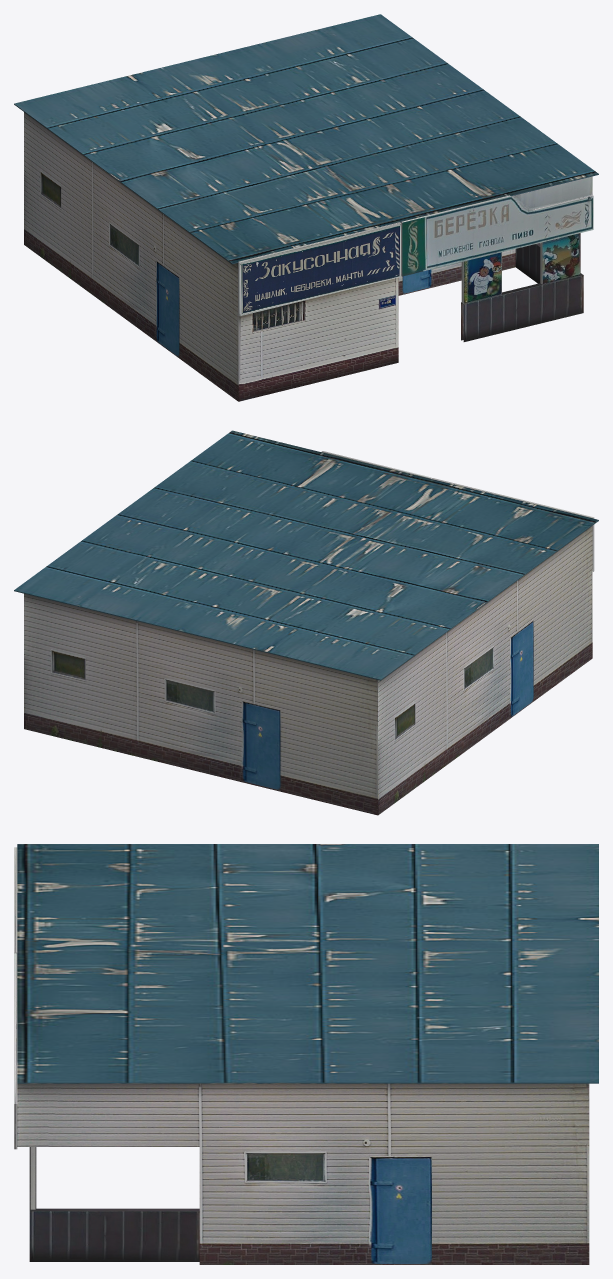
Rendered from r254_zakusochnaya_berezka.FBX.
3 renders of one model, top to bottom at view 1: azimuth 30°, elevation 25°; view 2: azimuth 150°, elevation 25°; view 3: azimuth 270°, elevation 25°, orthographic. The views are drawn at different scales.
Visible parts, largest first — view 1: r254_zakusochnaya_berezka; view 2: r254_zakusochnaya_berezka; view 3: r254_zakusochnaya_berezka.
Part boxes in pixels (bbox=[...]): r254_zakusochnaya_berezka: bbox=[14, 14, 598, 401]; r254_zakusochnaya_berezka: bbox=[14, 430, 598, 815]; r254_zakusochnaya_berezka: bbox=[14, 844, 598, 1264].
Bounding box in the file's own units: 8.52 × 8.84 × 3.12.
